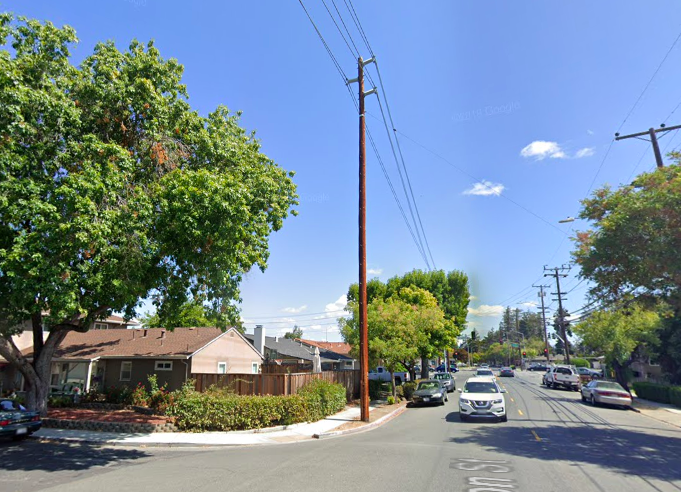tree: (1, 10, 300, 419), (337, 269, 471, 397)
utility_pole: (607, 113, 681, 165), (340, 44, 383, 116), (542, 253, 576, 308)
